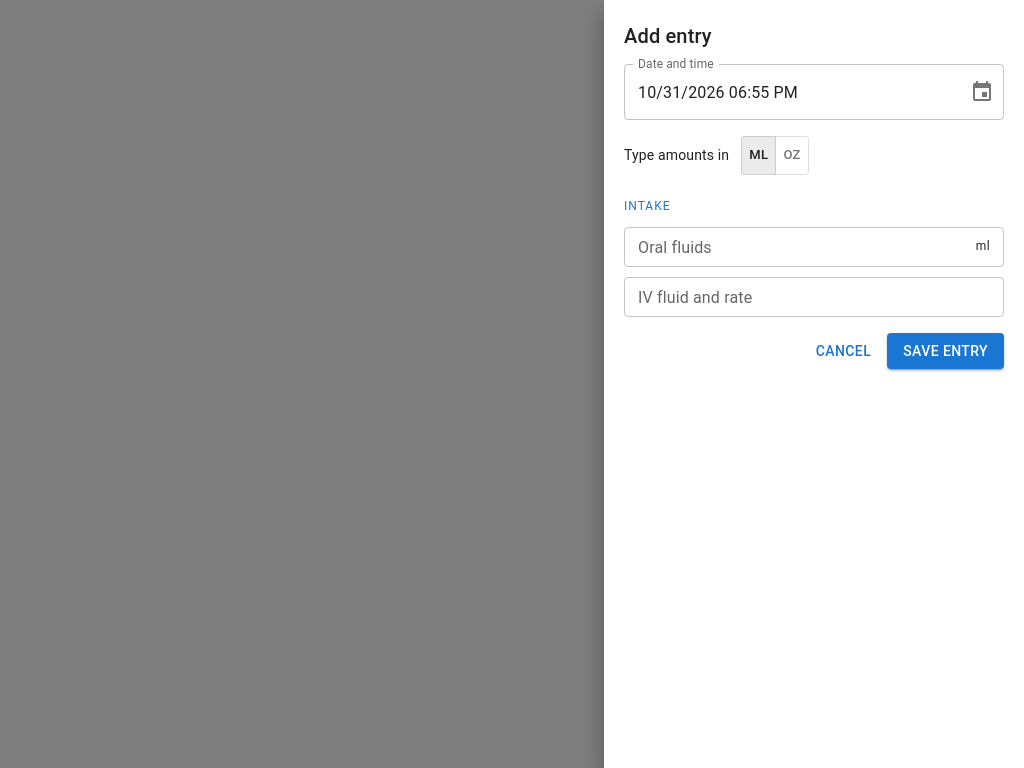
Test case: IntakeOutputEntryDrawer › refuses an empty entry and a non-number
Click the button "Save entry" at (946, 351), box [887, 333, 1004, 369]
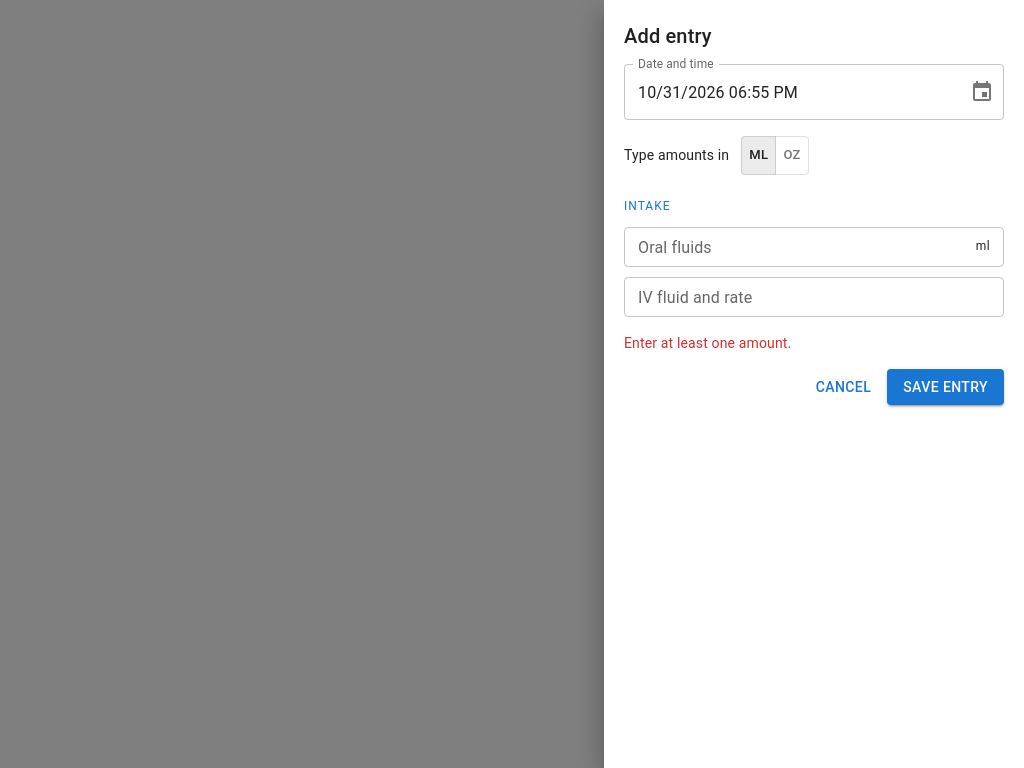
Now the message reads "Enter at least one amount.", box [624, 335, 791, 351]
Type "lots" into the field labelled "Oral fluids" at (800, 247), box [624, 227, 976, 267]
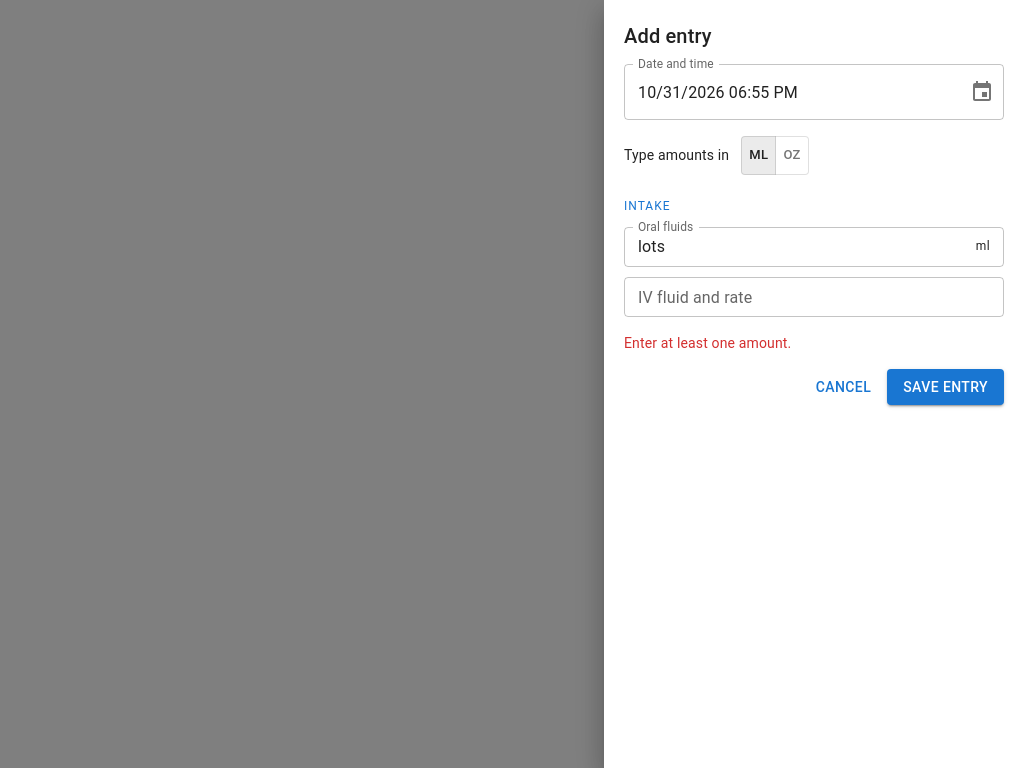
Click the button "Save entry" at (946, 387), box [887, 369, 1004, 405]
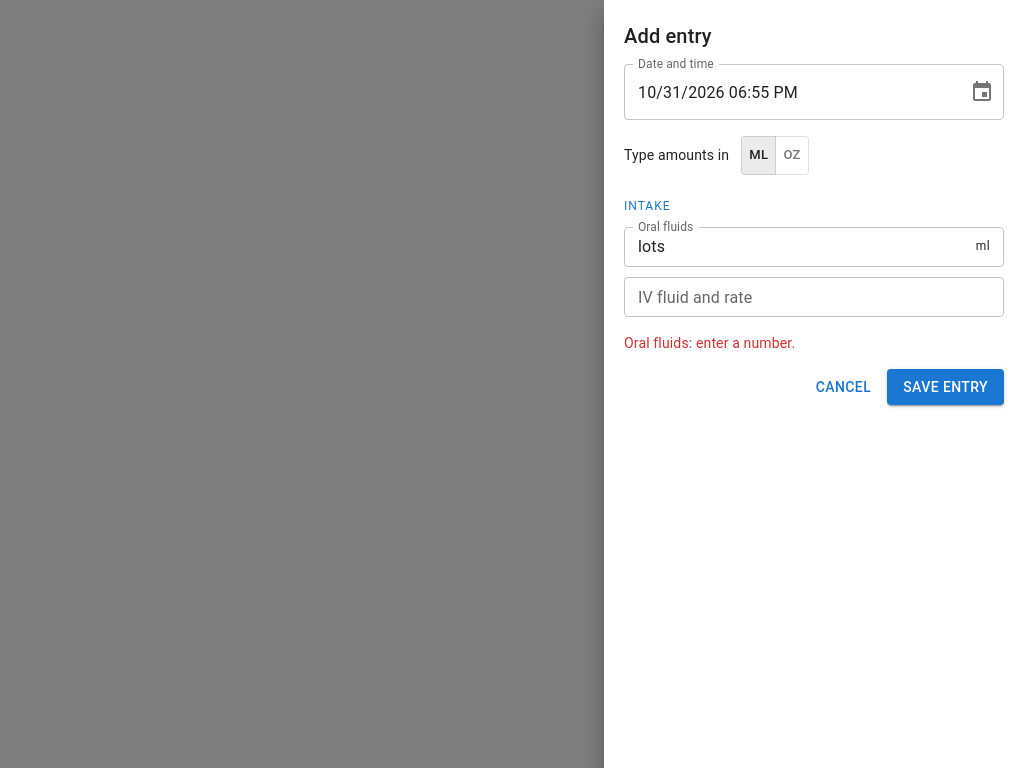
Now the message reads "Oral fluids: enter a number.", box [624, 335, 795, 351]
